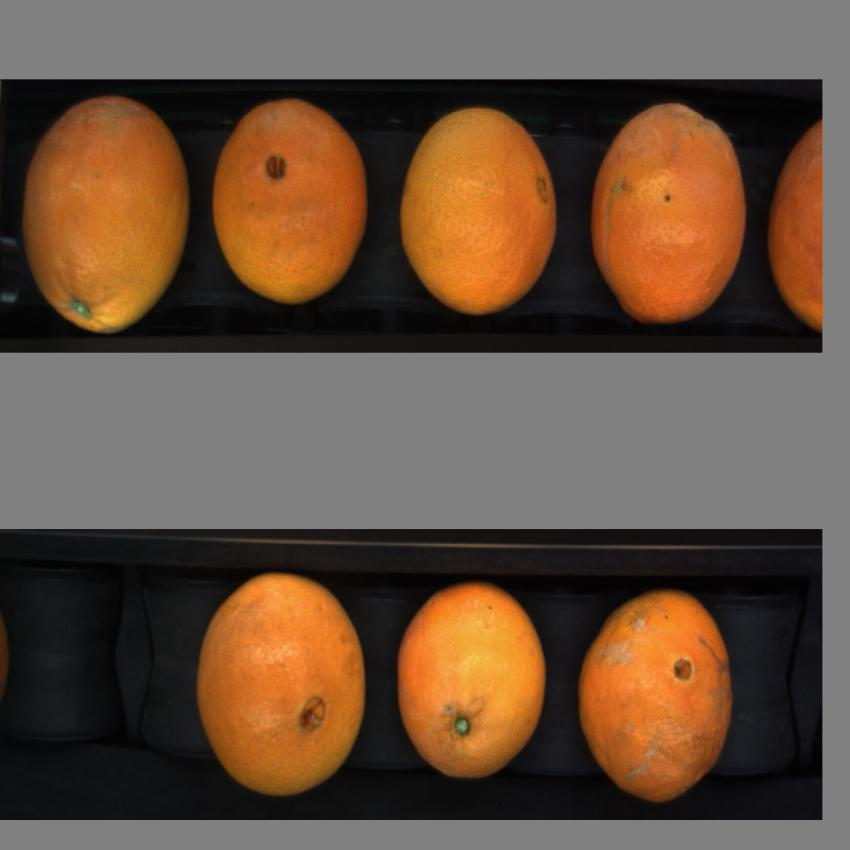Buen estado: (17, 91, 197, 339), (189, 570, 378, 794), (587, 91, 751, 331), (396, 98, 566, 319), (575, 582, 738, 807), (209, 95, 372, 306), (391, 574, 550, 780)
Mal estado: (767, 112, 822, 330)
